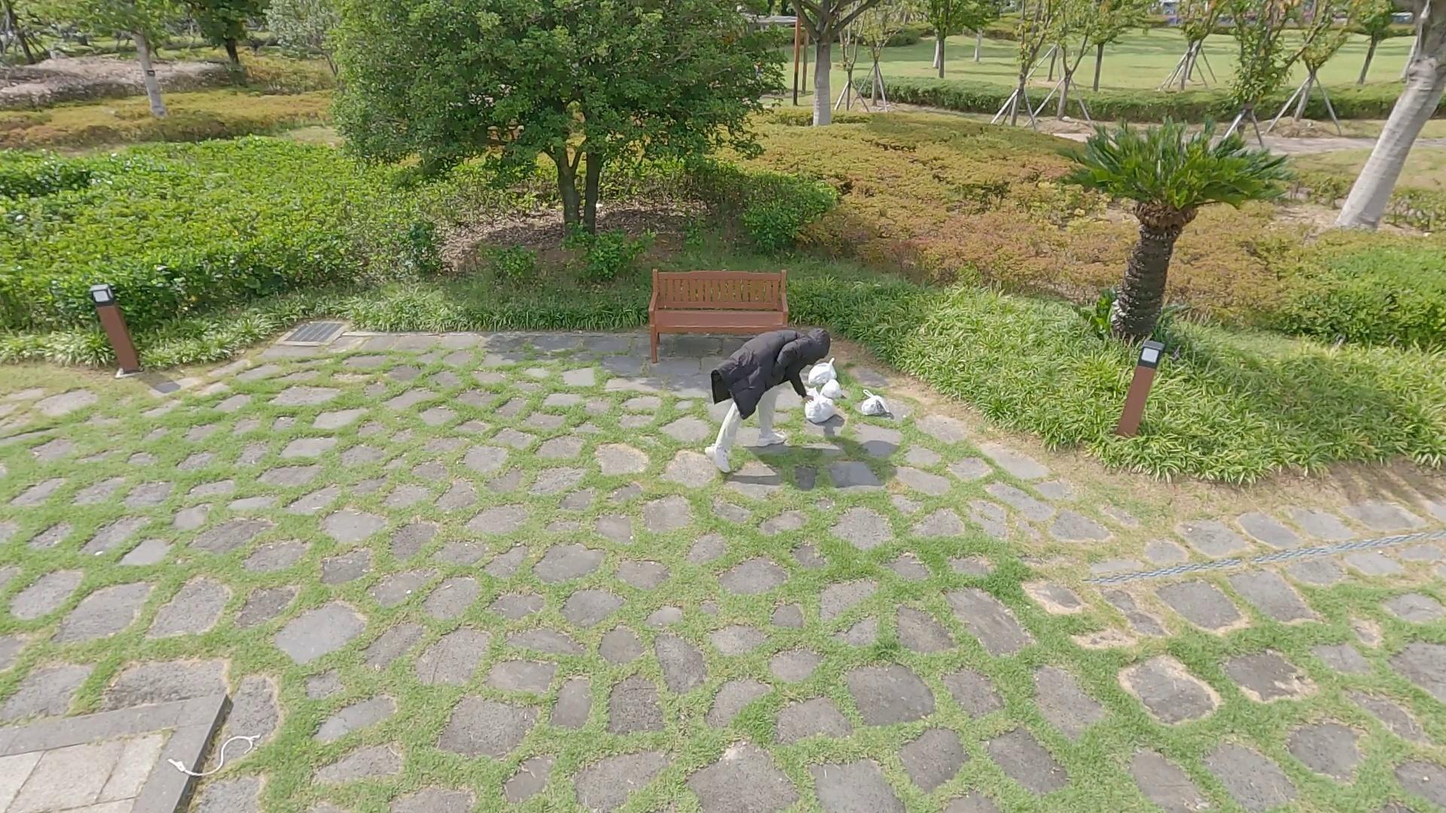person: (708, 325, 831, 484)
trash: (799, 378, 836, 429), (851, 386, 894, 423), (808, 346, 840, 395), (814, 375, 848, 406)
